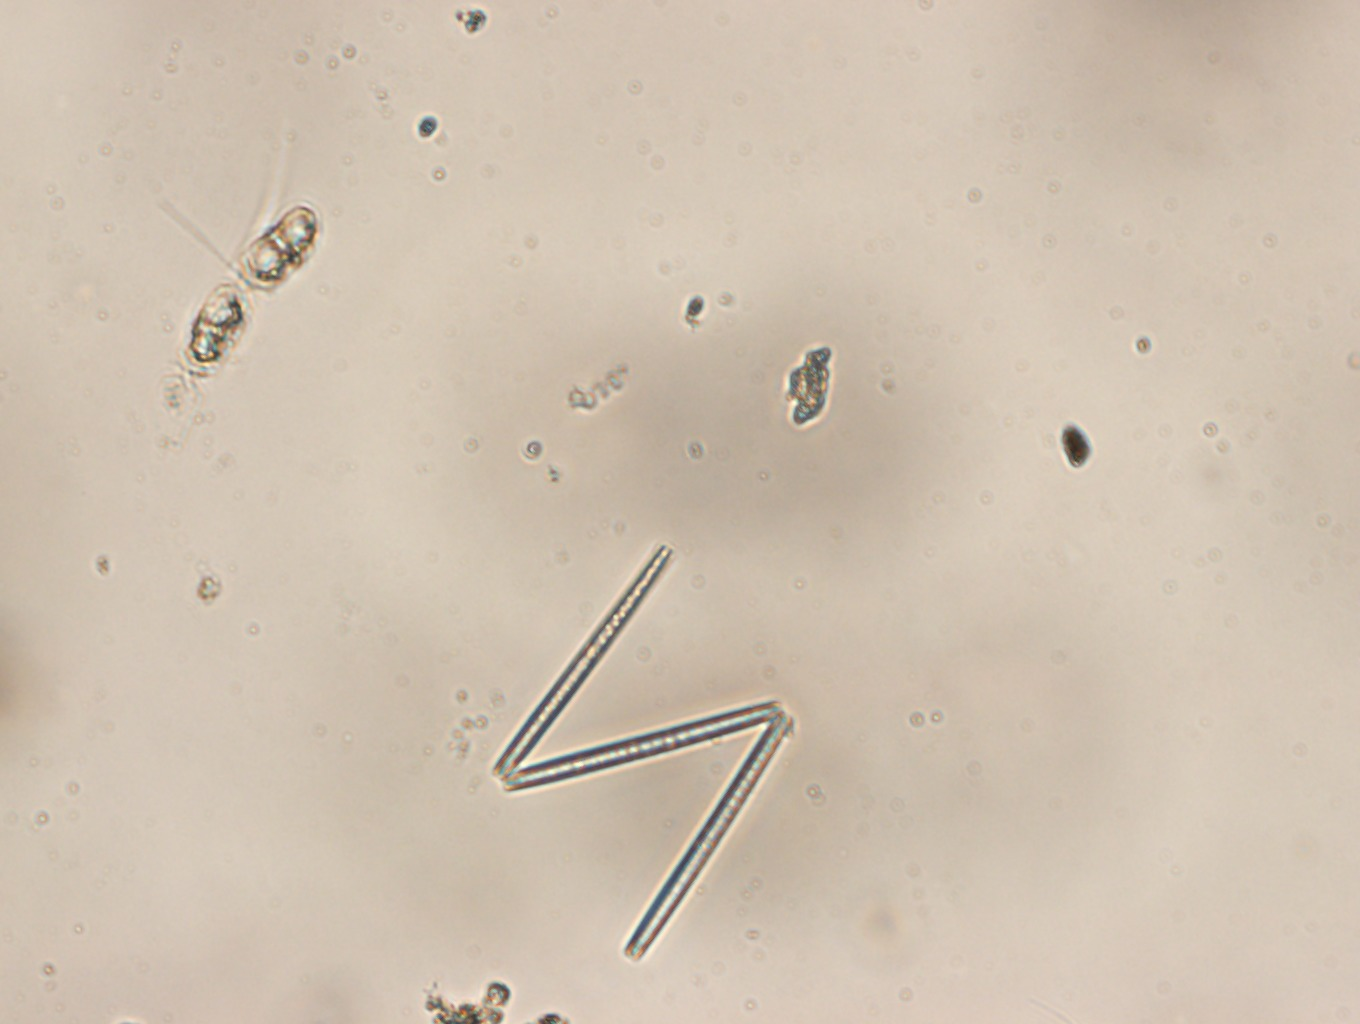thalassionema nitzschioides: (491, 541, 790, 959)
